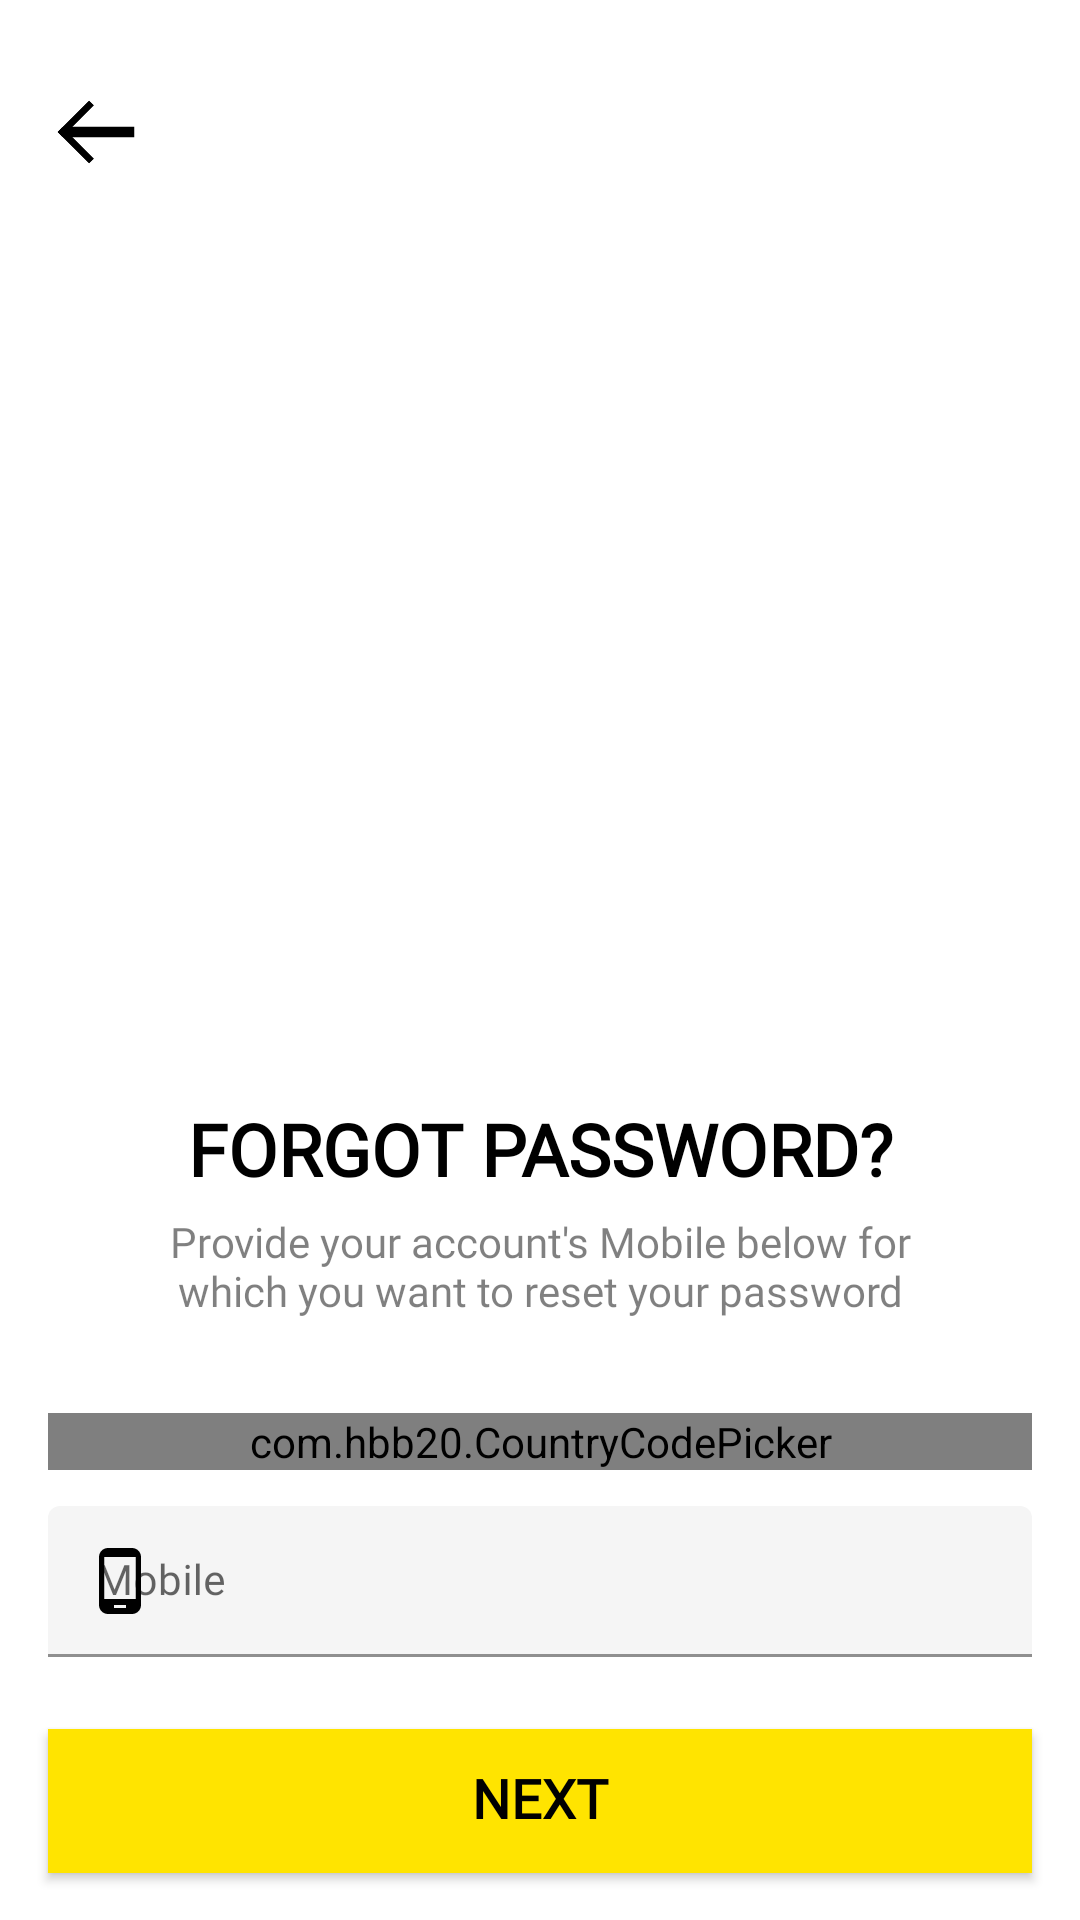

Screen size 1080 x 1920. Icon name, then its box in pixels as (x1, y1, x2, y2):
back arrow: (58, 101, 135, 163)
